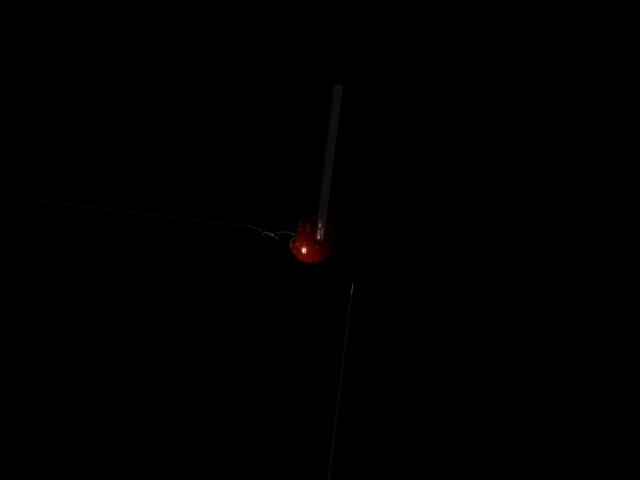tomato: (289, 210, 337, 265)
